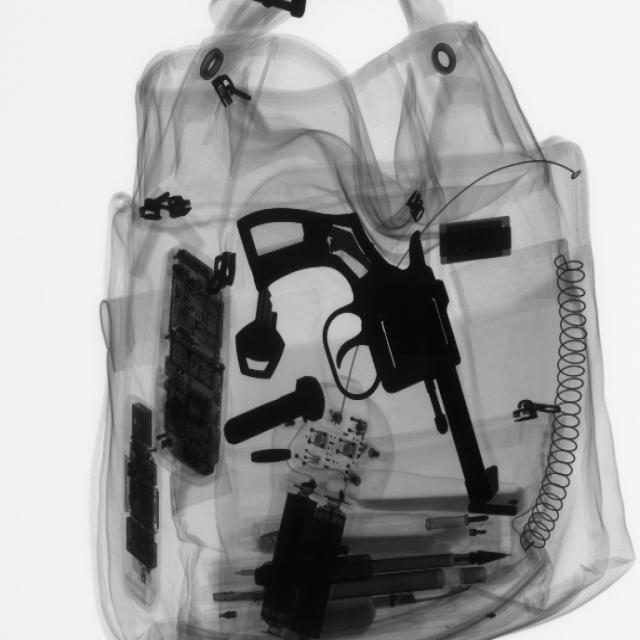GUN: (238, 207, 508, 517)
